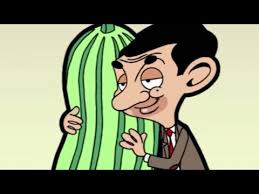mrbean: (112, 24, 220, 170)
